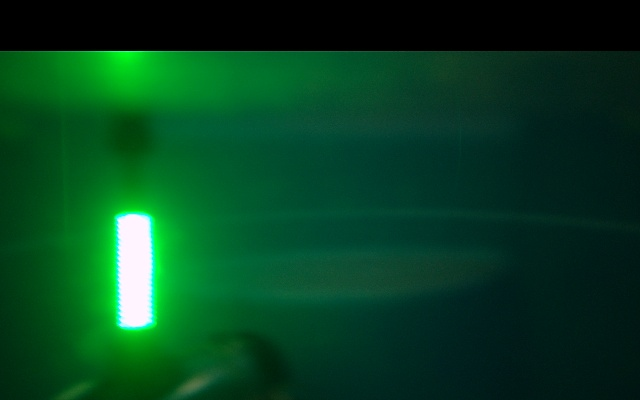green: (117, 206, 153, 349)
